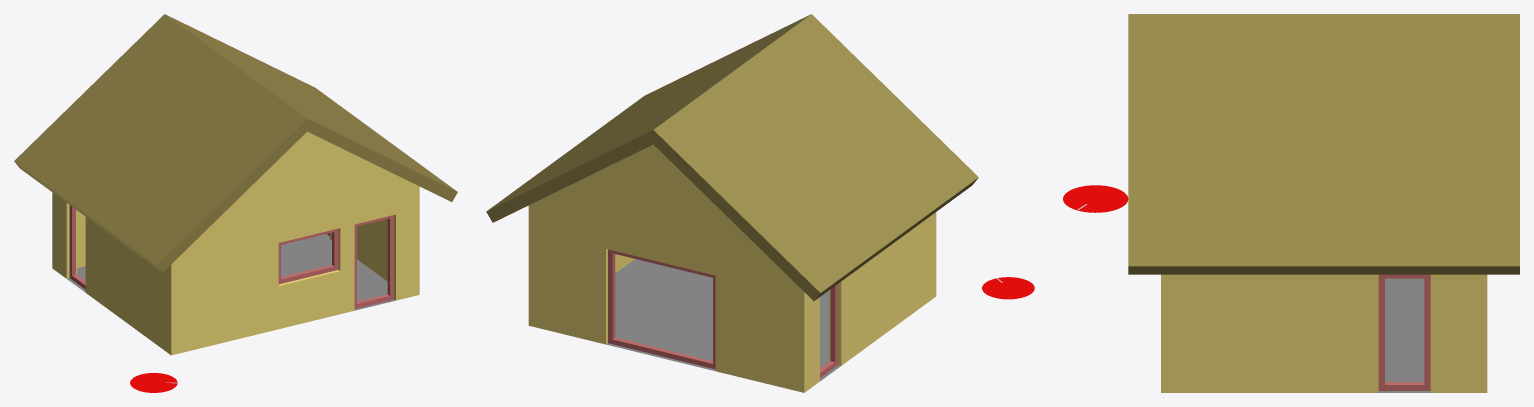
File: result.glb
3 views of the same model, side by side, from view 1: azimuth 30°, elevation 25°; view 2: azimuth 150°, elevation 25°; view 3: azimuth 270°, elevation 25° (orthographic). The views are drawn at different scales.
Parts seen in each view (by area): view 1: a57e8149-9c42-4cb1-b71c-2df75bc96f1a__undefined (×2), 92c2ab1f-9485-41e6-9d62-0d2ef8631020__undefined, 247384fd-3a4f-4583-bfc0-062bdf4cc99f__Plane_6, bf35086d-be47-4008-8293-950a25ff3829__Box, 5057c430-27ad-481e-9161-7e18fabdb550__Box_3, 42d62410-8c12-4704-a1ca-3ac1a7a20228__Circle, 17a613e9-8435-427f-bc06-7c9b3a1e80c4__Box_12; view 2: a57e8149-9c42-4cb1-b71c-2df75bc96f1a__undefined (×2), 92c2ab1f-9485-41e6-9d62-0d2ef8631020__undefined, 247384fd-3a4f-4583-bfc0-062bdf4cc99f__Plane_6, 5386e35d-e7f4-4f76-bc93-f0b2cc72a6f7__Box_9, 42d62410-8c12-4704-a1ca-3ac1a7a20228__Circle, 17a613e9-8435-427f-bc06-7c9b3a1e80c4__Box_12; view 3: a57e8149-9c42-4cb1-b71c-2df75bc96f1a__undefined, 92c2ab1f-9485-41e6-9d62-0d2ef8631020__undefined, 247384fd-3a4f-4583-bfc0-062bdf4cc99f__Plane_6, 35cb0622-1e1f-4584-8a23-27544c40ab61__Box_15, 42d62410-8c12-4704-a1ca-3ac1a7a20228__Circle.
Boxes of the visible parts, x1,y1,x2,y2 form: a57e8149-9c42-4cb1-b71c-2df75bc96f1a__undefined (×2): (14, 14, 457, 272); 92c2ab1f-9485-41e6-9d62-0d2ef8631020__undefined: (52, 131, 419, 355); 247384fd-3a4f-4583-bfc0-062bdf4cc99f__Plane_6: (67, 234, 395, 310); bf35086d-be47-4008-8293-950a25ff3829__Box: (354, 215, 393, 308); 5057c430-27ad-481e-9161-7e18fabdb550__Box_3: (278, 228, 338, 284); 42d62410-8c12-4704-a1ca-3ac1a7a20228__Circle: (130, 373, 177, 392); 17a613e9-8435-427f-bc06-7c9b3a1e80c4__Box_12: (69, 205, 85, 289); a57e8149-9c42-4cb1-b71c-2df75bc96f1a__undefined (×2): (486, 14, 978, 300); 92c2ab1f-9485-41e6-9d62-0d2ef8631020__undefined: (528, 144, 936, 392); 247384fd-3a4f-4583-bfc0-062bdf4cc99f__Plane_6: (606, 259, 840, 381); 5386e35d-e7f4-4f76-bc93-f0b2cc72a6f7__Box_9: (608, 249, 715, 369); 42d62410-8c12-4704-a1ca-3ac1a7a20228__Circle: (982, 277, 1034, 299); 17a613e9-8435-427f-bc06-7c9b3a1e80c4__Box_12: (820, 284, 837, 377); a57e8149-9c42-4cb1-b71c-2df75bc96f1a__undefined: (1128, 14, 1519, 274); 92c2ab1f-9485-41e6-9d62-0d2ef8631020__undefined: (1161, 274, 1487, 392); 247384fd-3a4f-4583-bfc0-062bdf4cc99f__Plane_6: (1378, 278, 1430, 392); 35cb0622-1e1f-4584-8a23-27544c40ab61__Box_15: (1378, 274, 1430, 390); 42d62410-8c12-4704-a1ca-3ac1a7a20228__Circle: (1063, 185, 1128, 212).
Size of the model in its own units: 817 by 500 by 700.
